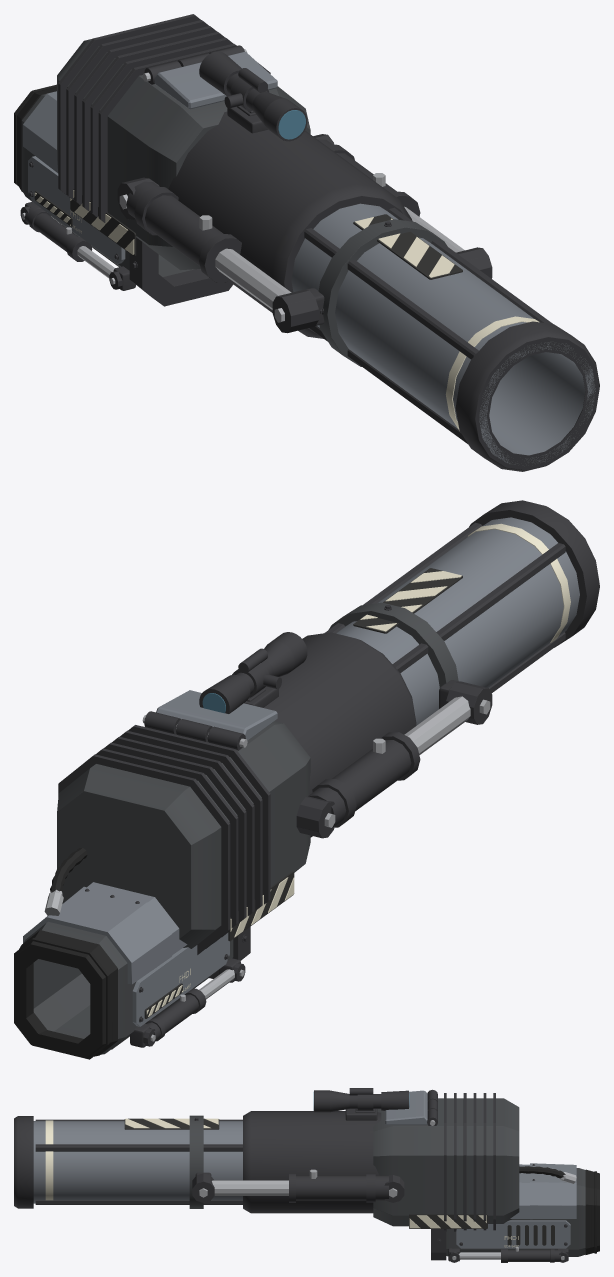
The model's file is heavymortar.glb.
3 views of the same model, one above another, from view 1: azimuth 30°, elevation 25°; view 2: azimuth 150°, elevation 25°; view 3: azimuth 270°, elevation 25° (orthographic). The views are drawn at different scales.
Parts seen in each view (by area): view 1: Body; view 2: Body; view 3: Body.
Boxes of the visible parts, box(x1,y1,x2,y2) form: Body: box(14, 14, 599, 471); Body: box(14, 500, 599, 1059); Body: box(14, 1088, 599, 1262).
Bounding box in the file's own units: 0.386 × 0.4595 × 1.48.
